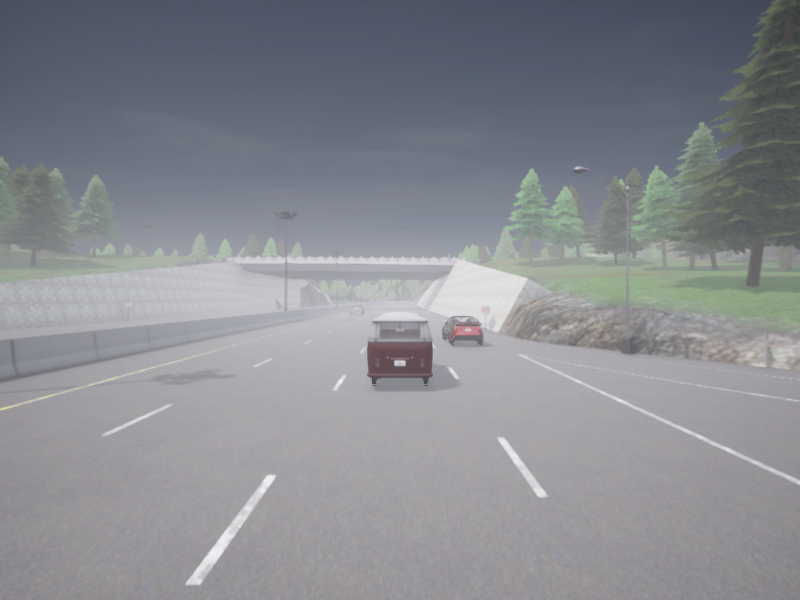vehicle: (367, 312, 432, 384), (442, 315, 482, 344), (351, 305, 364, 314)
